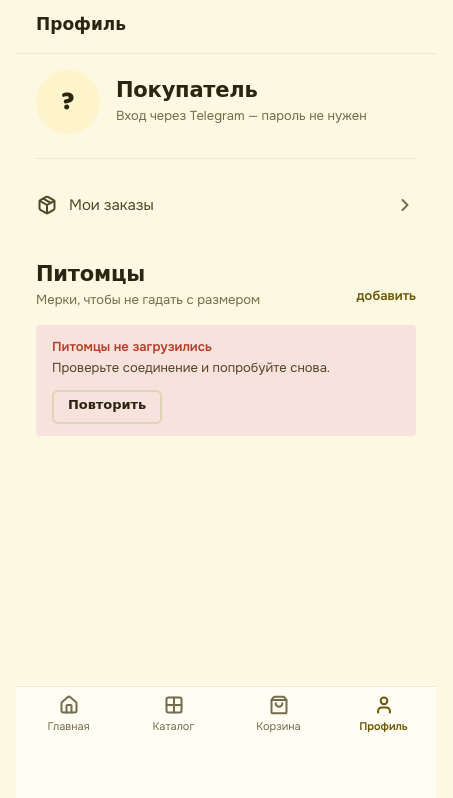
Test case: ProfileScreen — список питомцев › на сбое предлагает повторить и повторяет
Click the button "Повторить".
click(107, 407)  # box [52,390,162,424]
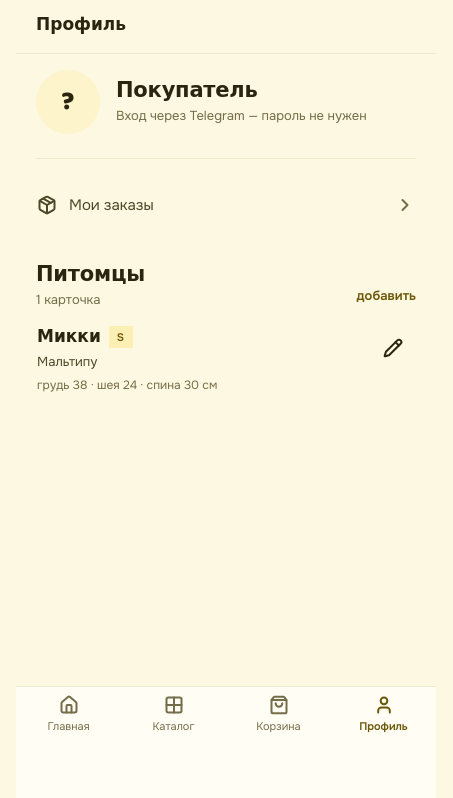
Expected: the text "Микки" is shown, [37,327,101,348]
